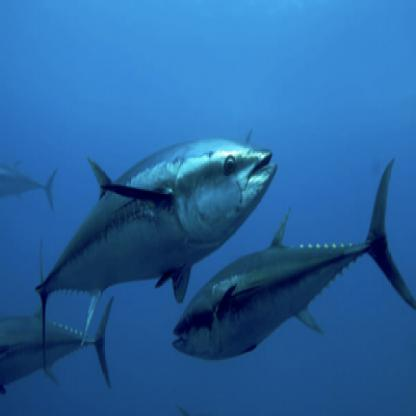Scombridae -Tunas-: (30, 132, 291, 381), (174, 158, 412, 365)
